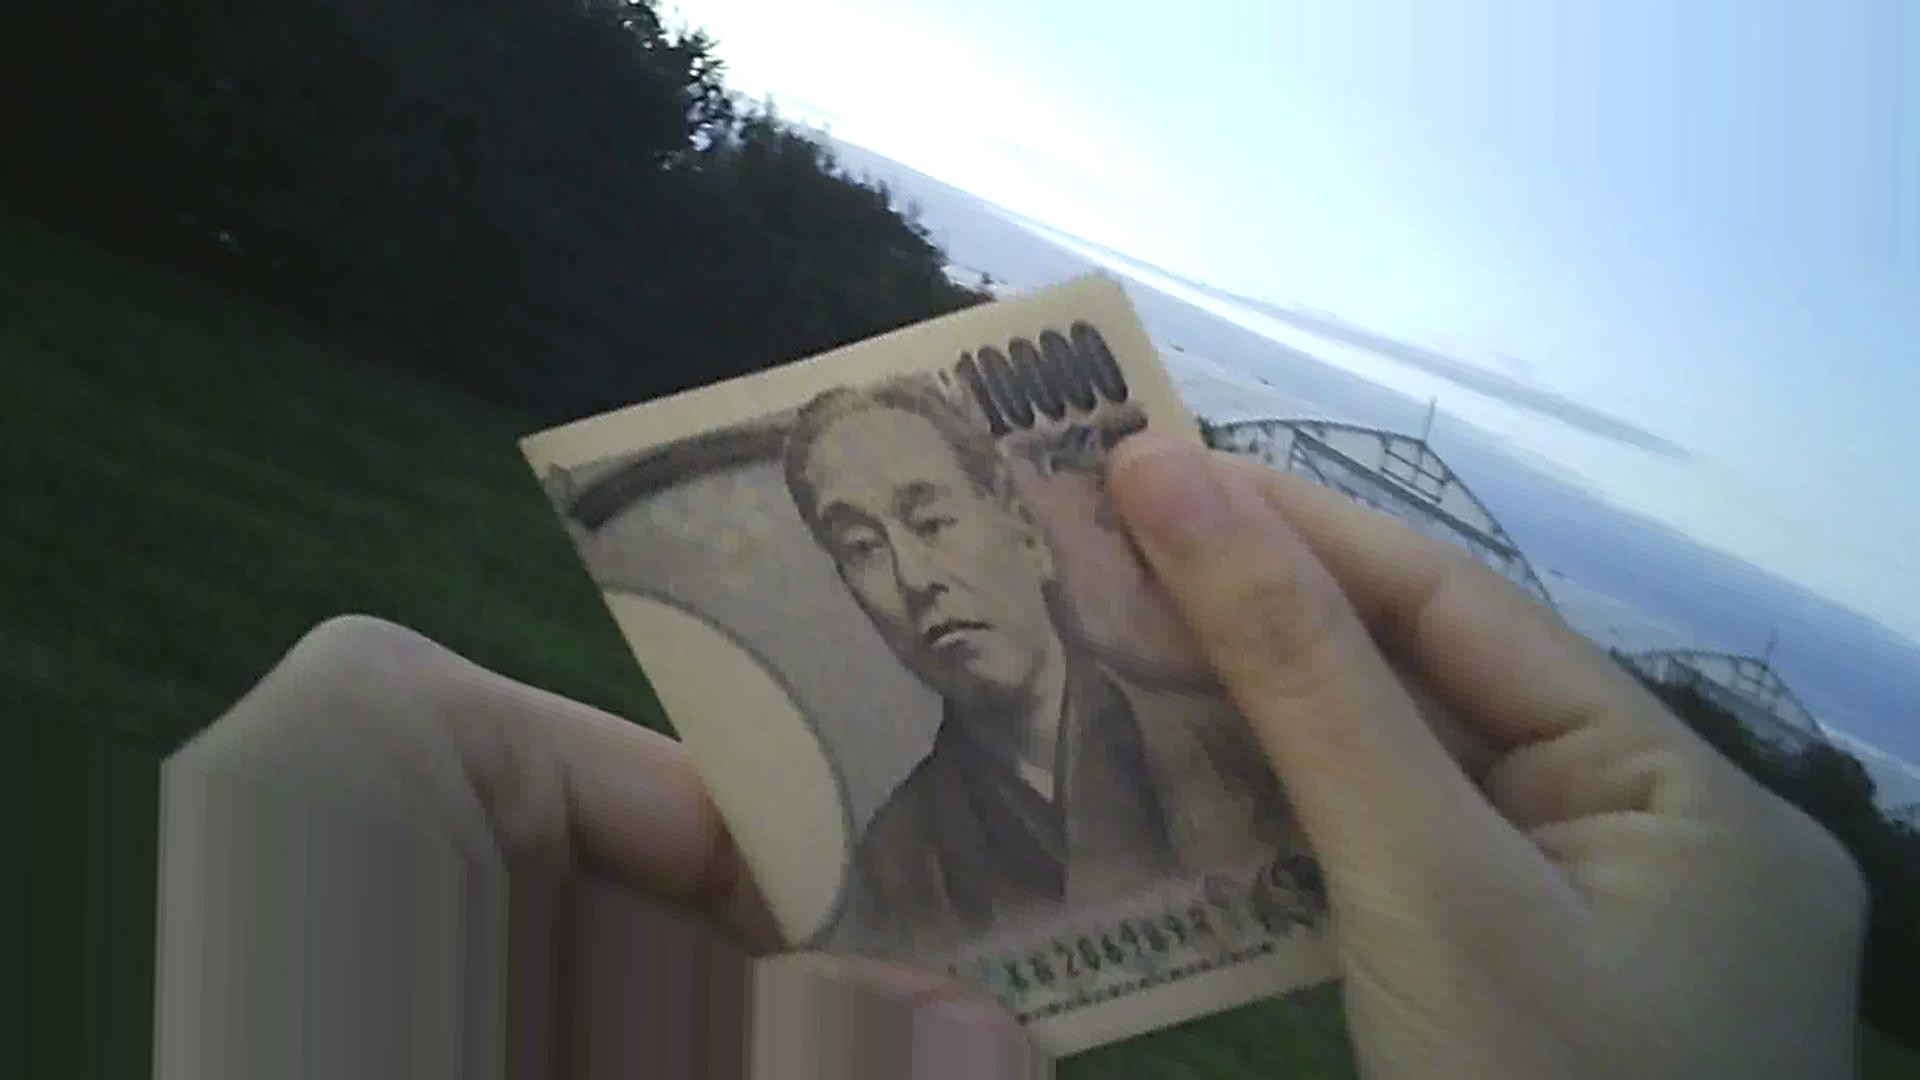10,000 Yen: (464, 253, 1404, 1073)
